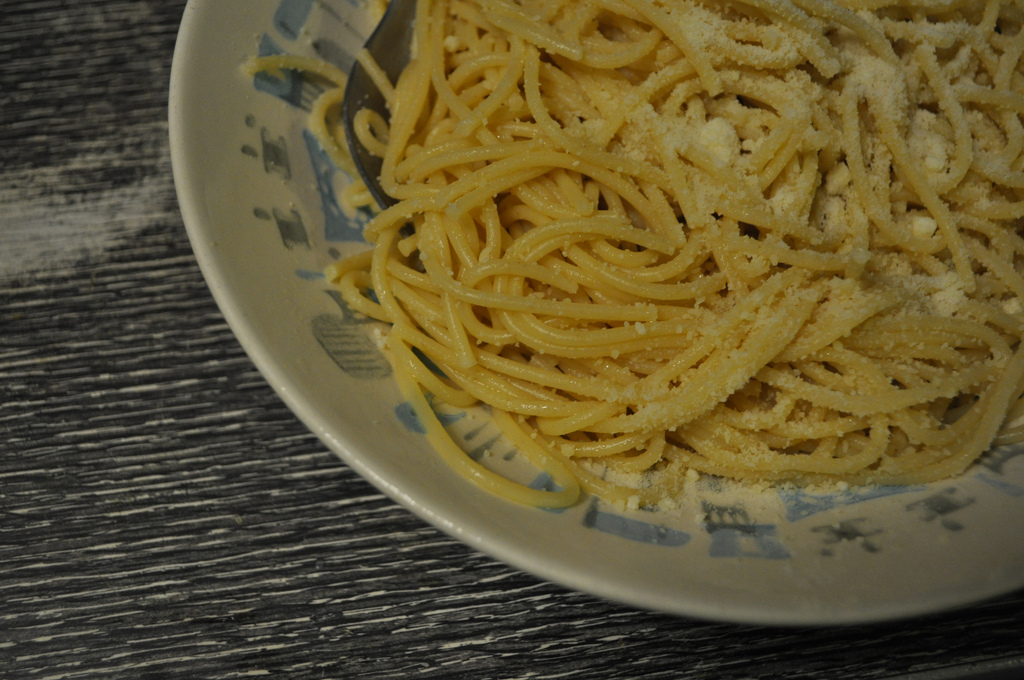plain spaghetti: (379, 5, 1024, 506)
